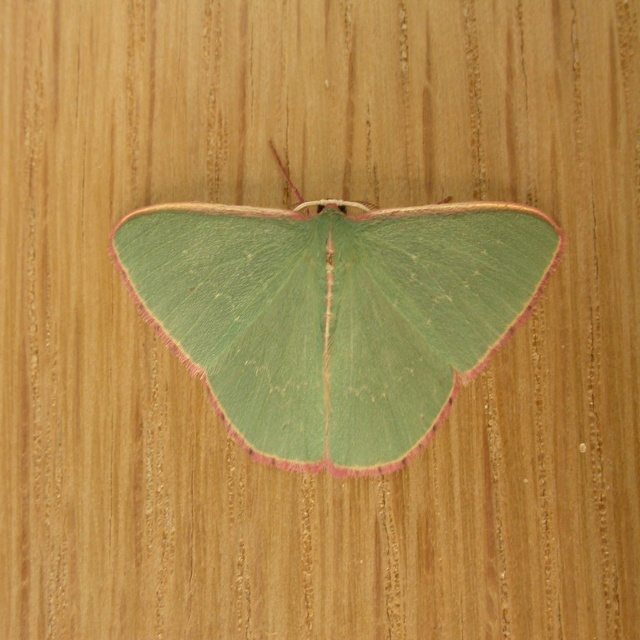Butterfly: (107, 142, 564, 478)
